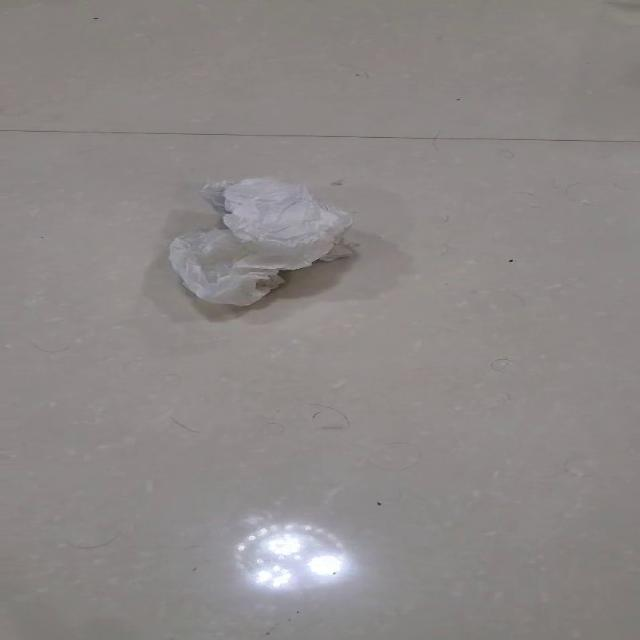plastic: (166, 176, 353, 307)
